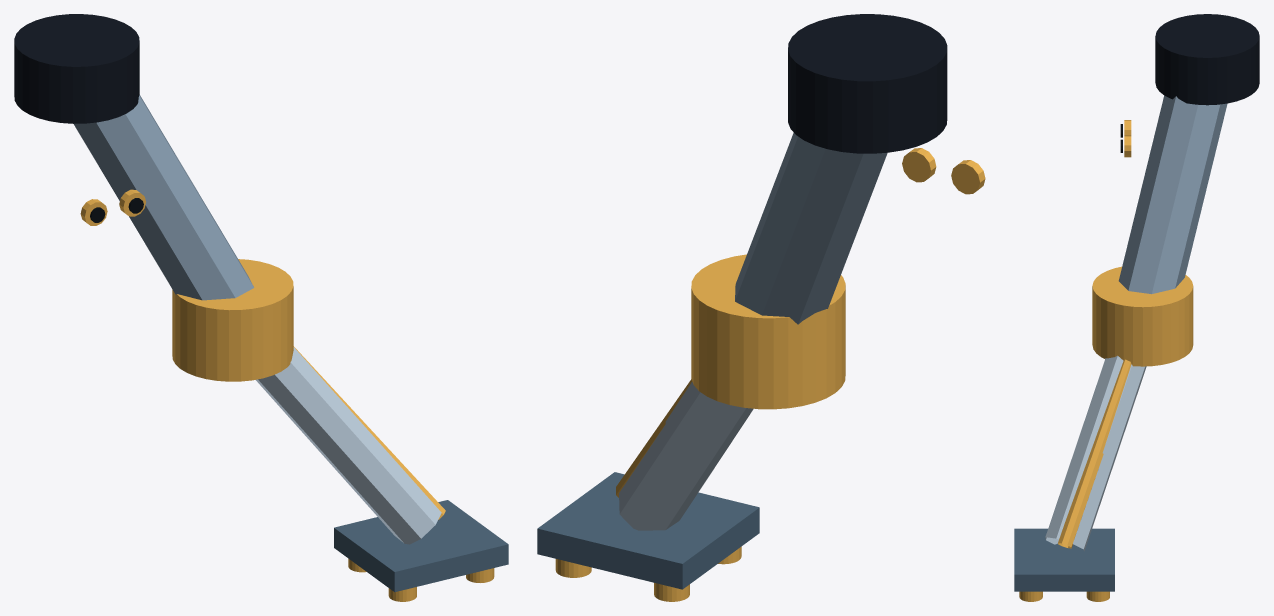
File: 23_L92_ArticulatedLandingLegF.fbx
3 renders of one model, left to right at view 1: azimuth 30°, elevation 25°; view 2: azimuth 150°, elevation 25°; view 3: azimuth 270°, elevation 25°, orthographic. The views are drawn at different scales.
Parts seen in each view (by area): view 1: L92_ArticulatedLandingLegF_Part_0000, L92_ArticulatedLandingLegF_Part_0002, L92_ArticulatedLandingLegF_Part_0003, L92_ArticulatedLandingLegF_Part_0004, L92_ArticulatedLandingLegF_Part_0005, L92_ArticulatedLandingLegF_Part_0006; view 2: L92_ArticulatedLandingLegF_Part_0002, L92_ArticulatedLandingLegF_Part_0003, L92_ArticulatedLandingLegF_Part_0000, L92_ArticulatedLandingLegF_Part_0005, L92_ArticulatedLandingLegF_Part_0004, L92_ArticulatedLandingLegF_Part_0006, L92_ArticulatedLandingLegF_Part_0007, L92_ArticulatedLandingLegF_Part_0009; view 3: L92_ArticulatedLandingLegF_Part_0000, L92_ArticulatedLandingLegF_Part_0003, L92_ArticulatedLandingLegF_Part_0002, L92_ArticulatedLandingLegF_Part_0004, L92_ArticulatedLandingLegF_Part_0005, L92_ArticulatedLandingLegF_Part_0006.
Part boxes in pixels (bbox=[...]): L92_ArticulatedLandingLegF_Part_0000: bbox=[73, 95, 254, 300]; L92_ArticulatedLandingLegF_Part_0002: bbox=[14, 14, 139, 123]; L92_ArticulatedLandingLegF_Part_0003: bbox=[172, 259, 445, 520]; L92_ArticulatedLandingLegF_Part_0004: bbox=[256, 347, 441, 544]; L92_ArticulatedLandingLegF_Part_0005: bbox=[334, 500, 508, 592]; L92_ArticulatedLandingLegF_Part_0006: bbox=[348, 558, 494, 601]; L92_ArticulatedLandingLegF_Part_0002: bbox=[788, 14, 947, 153]; L92_ArticulatedLandingLegF_Part_0003: bbox=[616, 254, 845, 497]; L92_ArticulatedLandingLegF_Part_0000: bbox=[735, 133, 887, 324]; L92_ArticulatedLandingLegF_Part_0005: bbox=[537, 472, 759, 589]; L92_ArticulatedLandingLegF_Part_0004: bbox=[619, 382, 753, 530]; L92_ArticulatedLandingLegF_Part_0006: bbox=[555, 546, 741, 601]; L92_ArticulatedLandingLegF_Part_0007: bbox=[951, 160, 985, 194]; L92_ArticulatedLandingLegF_Part_0009: bbox=[902, 148, 936, 182]; L92_ArticulatedLandingLegF_Part_0000: bbox=[1118, 95, 1227, 294]; L92_ArticulatedLandingLegF_Part_0003: bbox=[1058, 266, 1193, 548]; L92_ArticulatedLandingLegF_Part_0002: bbox=[1155, 14, 1259, 105]; L92_ArticulatedLandingLegF_Part_0004: bbox=[1045, 355, 1146, 551]; L92_ArticulatedLandingLegF_Part_0005: bbox=[1014, 528, 1114, 591]; L92_ArticulatedLandingLegF_Part_0006: bbox=[1019, 591, 1109, 601].
Size of the model in its own units: 211 by 290 by 146.
